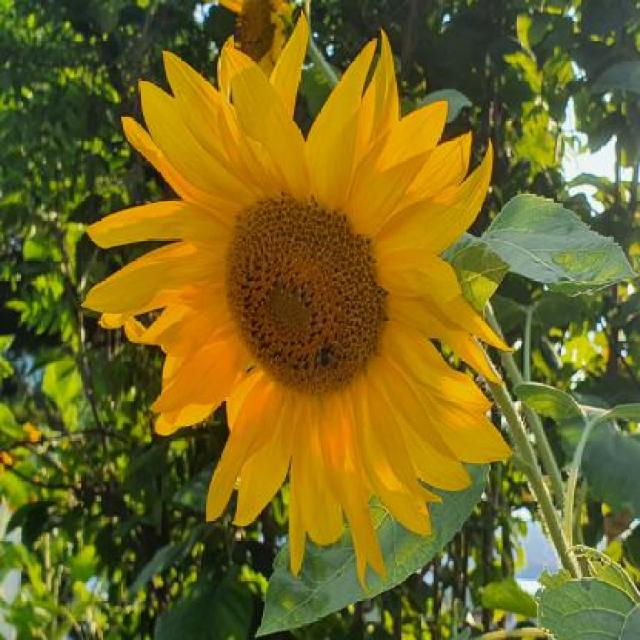sunflower: (81, 22, 525, 602)
